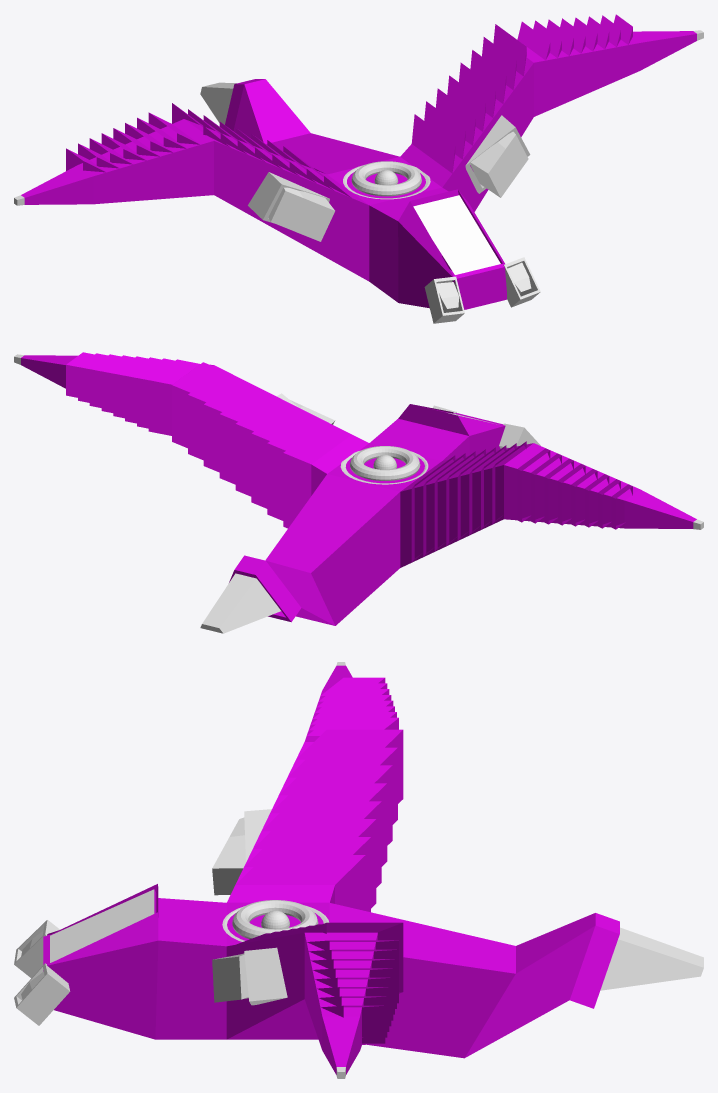
The model's file is shap2.fbx.
The picture shows the model from 3 angles, top to bottom: view 1: azimuth 30°, elevation 25°; view 2: azimuth 150°, elevation 25°; view 3: azimuth 270°, elevation 25°; orthographic projection. The views are drawn at different scales.
Parts seen in each view (by area): view 1: Ship.014; view 2: Ship.014; view 3: Ship.014.
Boxes of the visible parts, x1,y1,x2,y2 form: Ship.014: (14, 14, 703, 323); Ship.014: (14, 352, 703, 633); Ship.014: (14, 662, 703, 1078).
Bounding box in the file's own units: 1883 × 463 × 1340.
